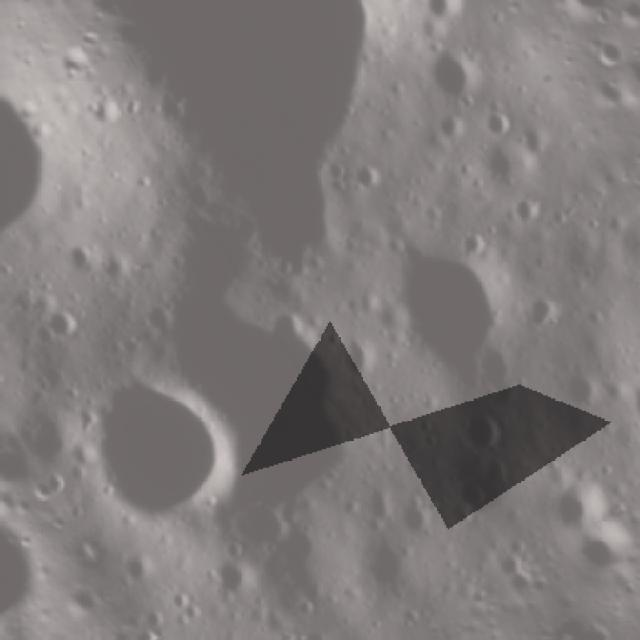crater: (36, 328, 267, 572), (357, 208, 549, 407), (410, 19, 508, 116), (533, 461, 621, 545), (442, 388, 526, 472), (192, 546, 265, 617), (68, 74, 138, 144), (31, 292, 95, 356), (615, 359, 640, 441), (412, 0, 477, 29), (75, 527, 111, 576), (0, 287, 2, 355)
